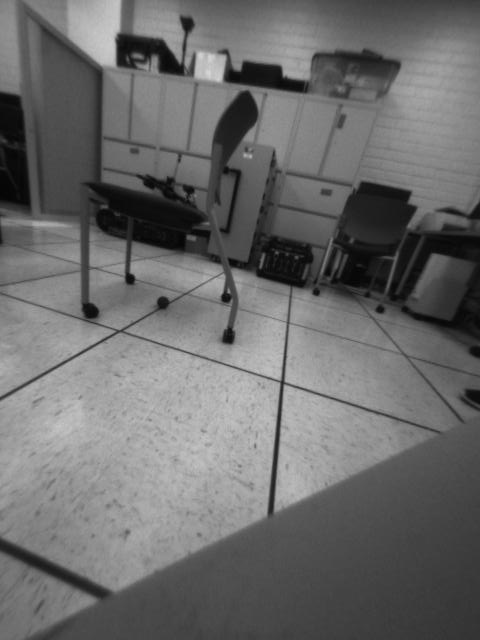dogtoy: (153, 288, 174, 313)
